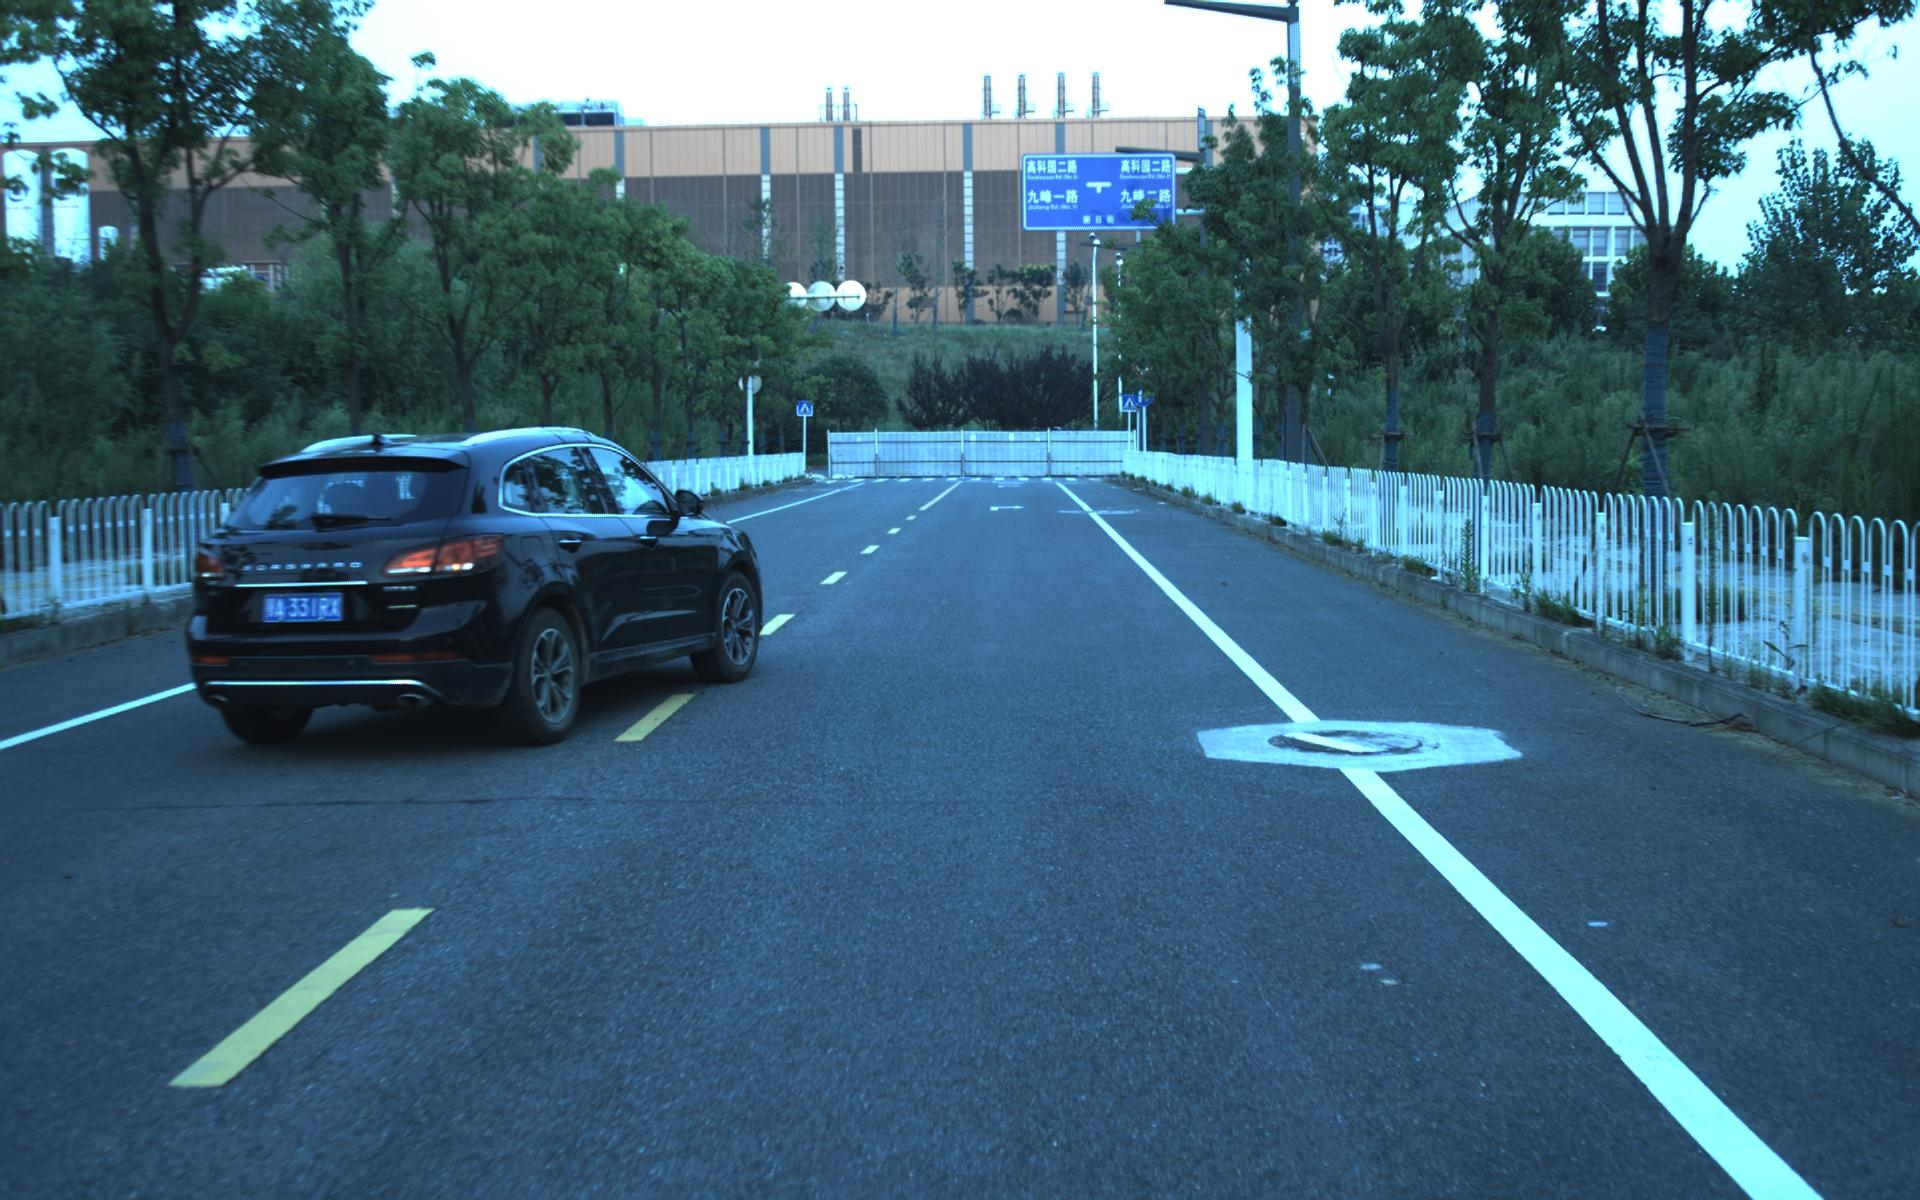Car: (160, 412, 764, 758)
